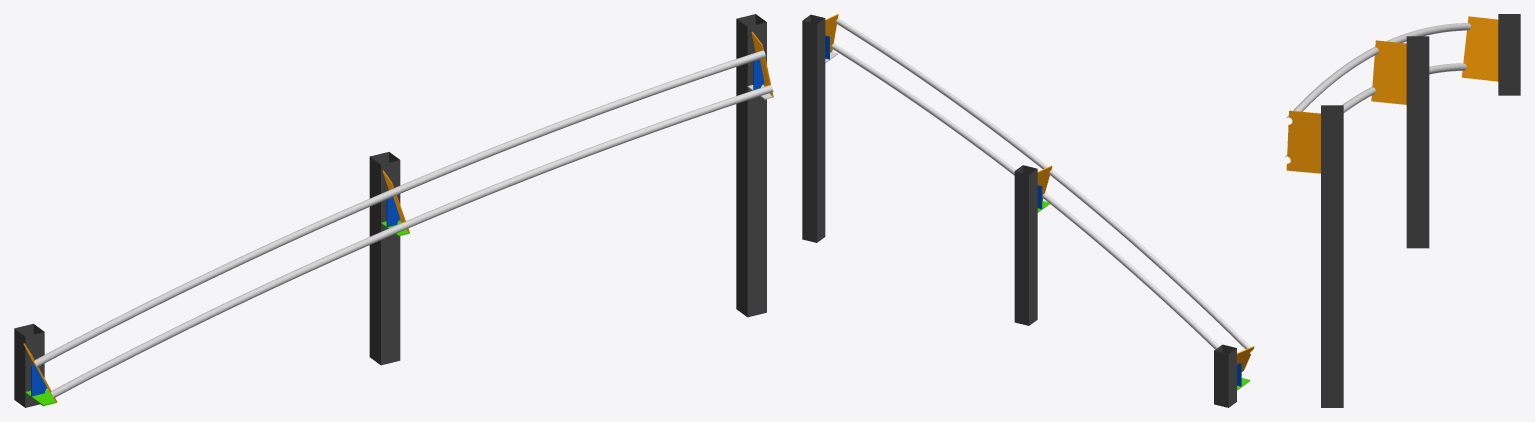
3 renders of one model, left to right at view 1: azimuth 30°, elevation 25°; view 2: azimuth 150°, elevation 25°; view 3: azimuth 270°, elevation 25°, orthographic. The views are drawn at different scales.
Visible parts, largest first — view 1: SMK_Pipe.Mesh.a.003, MK_PipeJigu.001.R.Pillar, MK_PipeJigu.001.C.Pillar, MK_PipeJigu.001.L.Pillar; view 2: SMK_Pipe.Mesh.a.003, MK_PipeJigu.001.R.Pillar, MK_PipeJigu.001.C.Pillar, MK_PipeJigu.001.L.Pillar; view 3: MK_PipeJigu.001.R.Pillar, MK_PipeJigu.001.C.Pillar, MK_PipeJigu.001.L, SMK_Pipe.Mesh.a.003, MK_PipeJigu.001.C, MK_PipeJigu.001.R, MK_PipeJigu.001.L.Pillar.
Part boxes in pixels (x1,y1,x2,y2): SMK_Pipe.Mesh.a.003: [34, 50, 773, 397]; MK_PipeJigu.001.R.Pillar: [736, 14, 766, 317]; MK_PipeJigu.001.C.Pillar: [369, 152, 400, 365]; MK_PipeJigu.001.L.Pillar: [14, 323, 44, 407]; SMK_Pipe.Mesh.a.003: [831, 18, 1253, 370]; MK_PipeJigu.001.R.Pillar: [802, 14, 825, 242]; MK_PipeJigu.001.C.Pillar: [1014, 165, 1037, 325]; MK_PipeJigu.001.L.Pillar: [1214, 344, 1236, 407]; MK_PipeJigu.001.R.Pillar: [1321, 105, 1343, 407]; MK_PipeJigu.001.C.Pillar: [1406, 36, 1429, 248]; MK_PipeJigu.001.L: [1461, 16, 1498, 81]; SMK_Pipe.Mesh.a.003: [1285, 23, 1470, 156]; MK_PipeJigu.001.C: [1371, 40, 1406, 104]; MK_PipeJigu.001.R: [1286, 110, 1320, 173]; MK_PipeJigu.001.L.Pillar: [1498, 14, 1520, 95].
Bounding box in the file's own units: 3.42 × 1.43 × 1.05.
